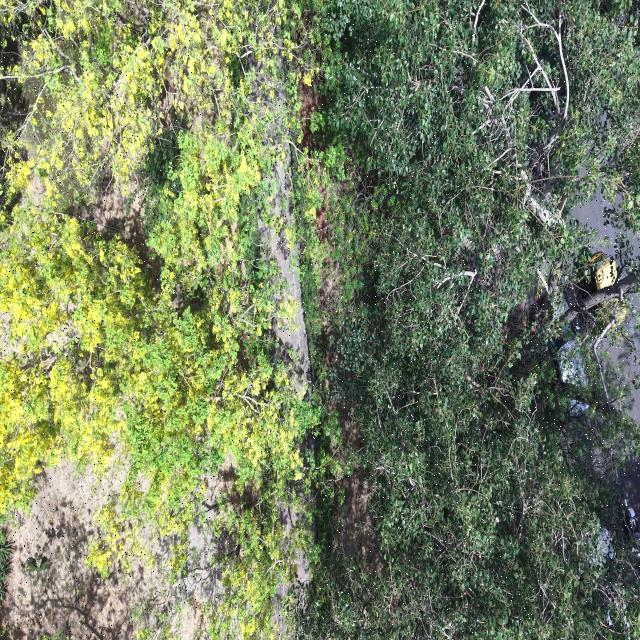DRY_AREA: (0, 462, 224, 639), (0, 461, 220, 639), (0, 461, 166, 639), (0, 462, 158, 639), (572, 191, 639, 255)
VEGETATION_TREE: (0, 0, 639, 638), (297, 0, 639, 638), (0, 0, 315, 637), (0, 529, 13, 603)
